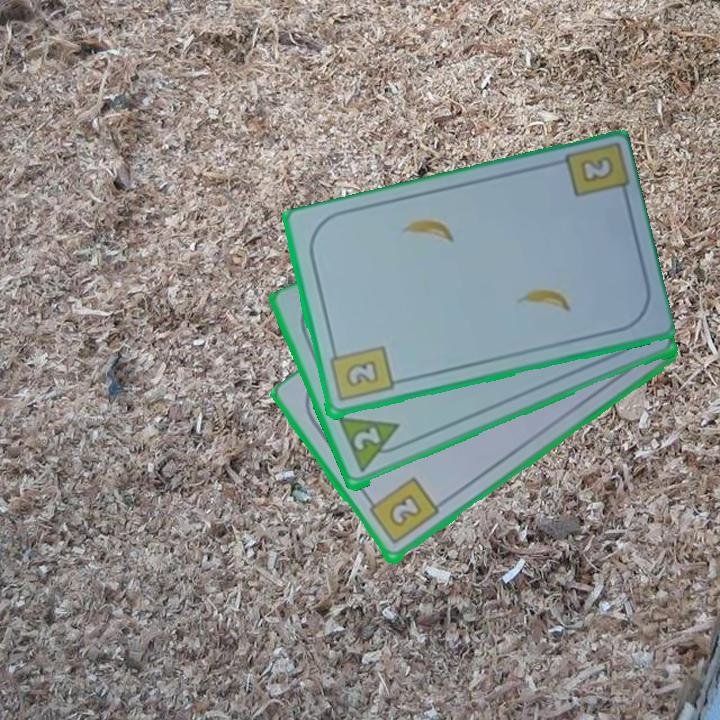2b: (362, 474, 442, 548), (326, 343, 396, 405), (576, 152, 617, 187)
2p: (349, 424, 384, 454)
